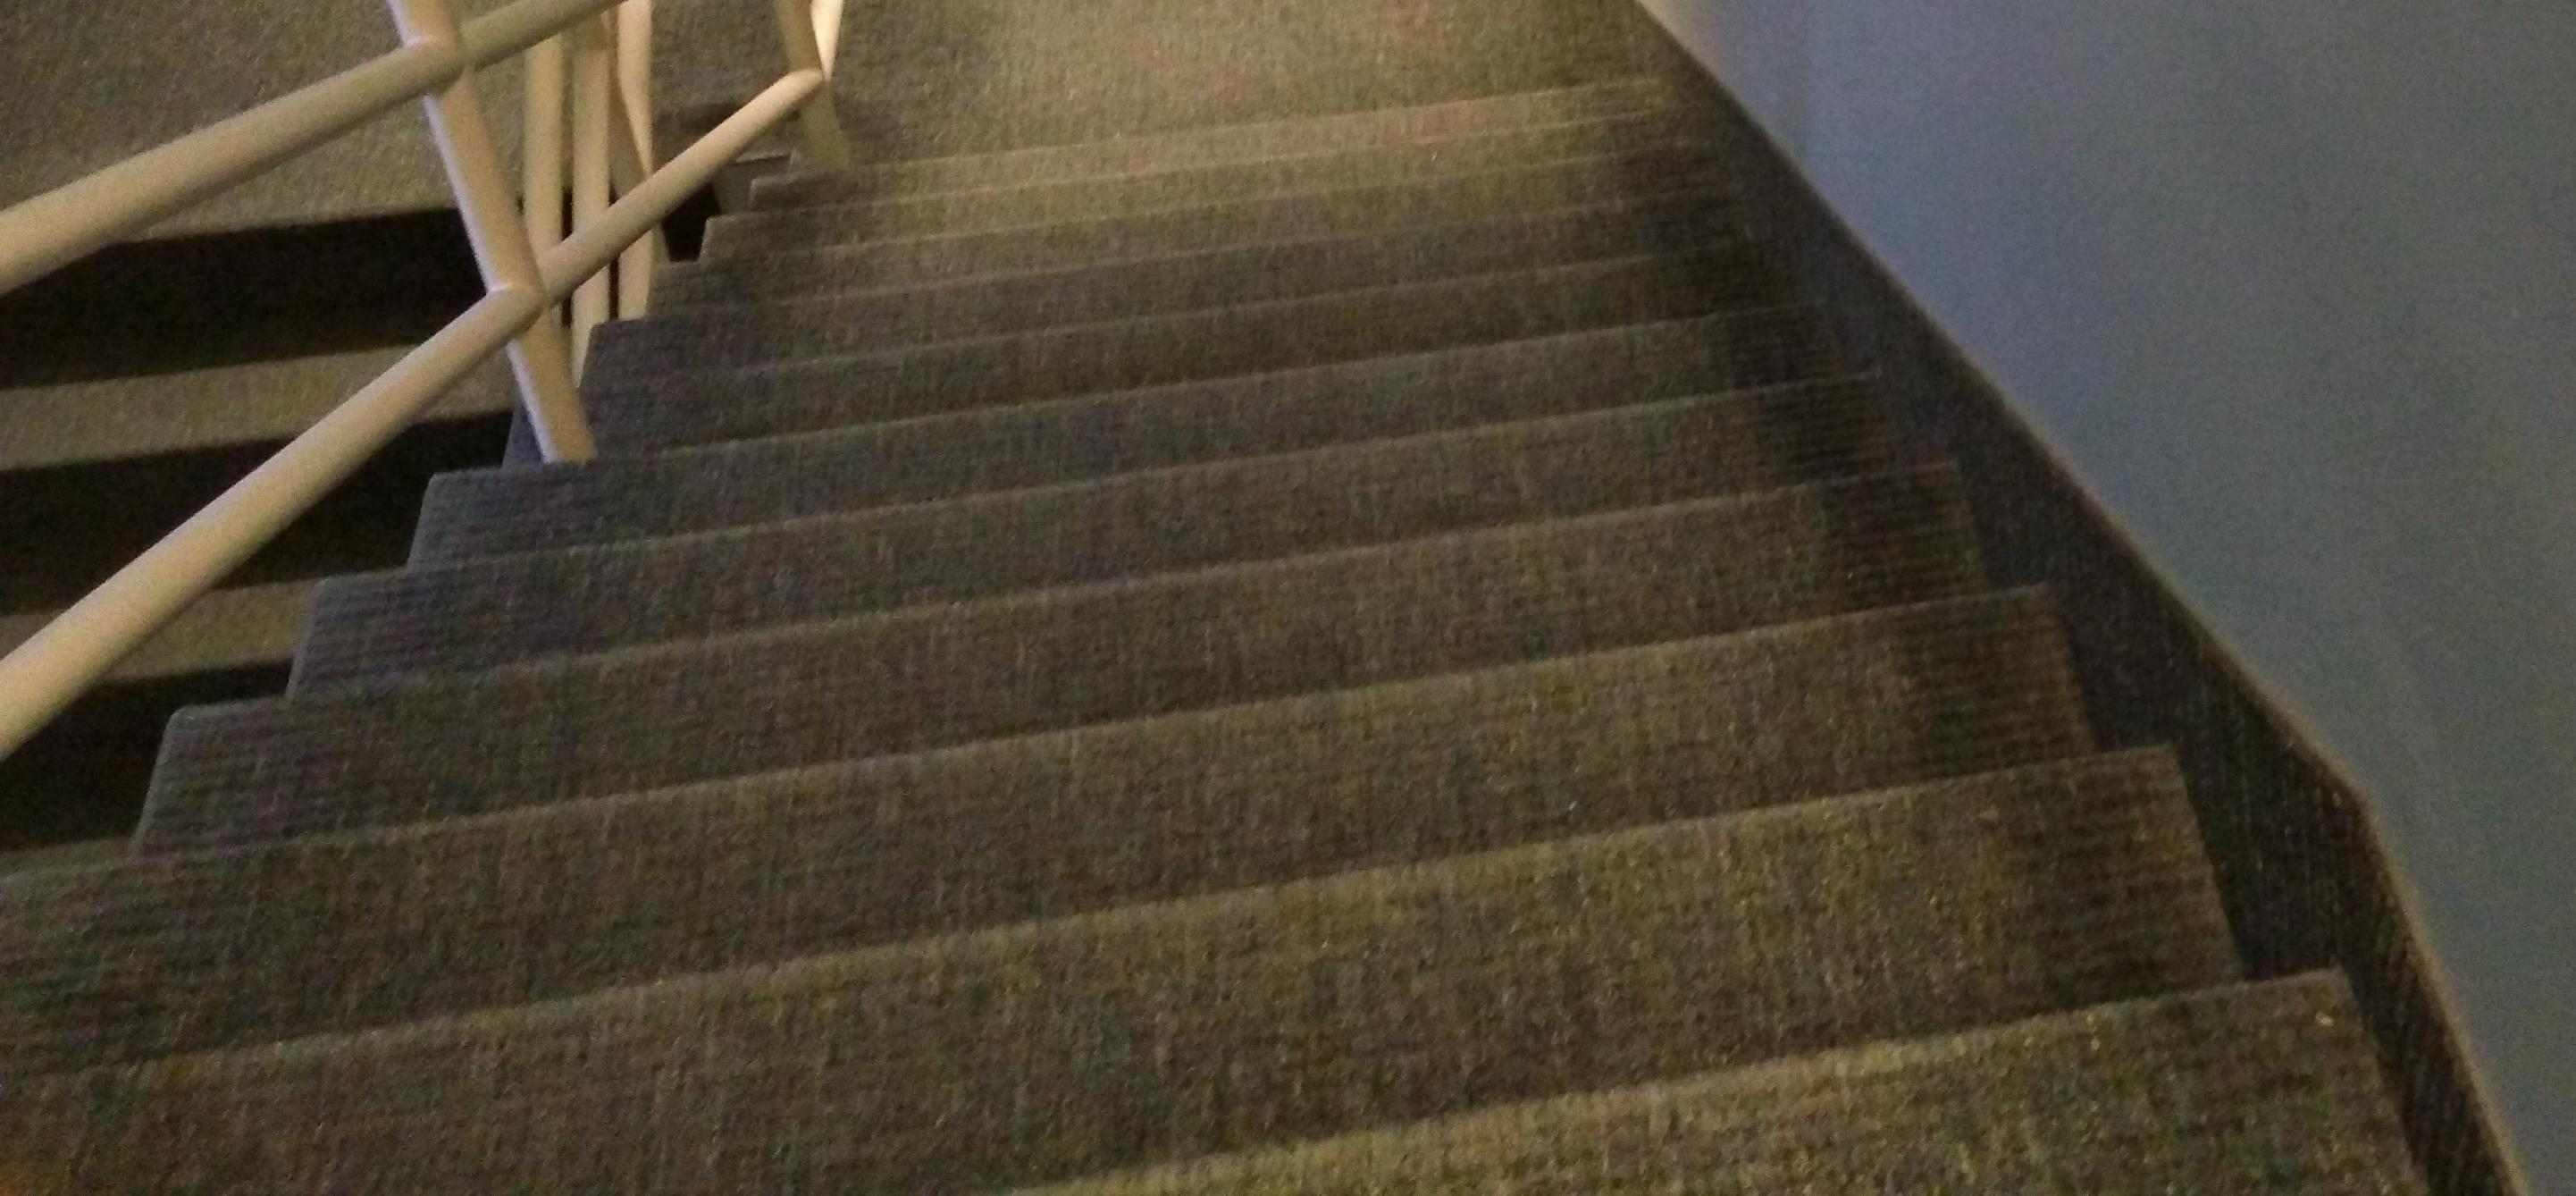stairs_down: (135, 62, 2004, 1142)
